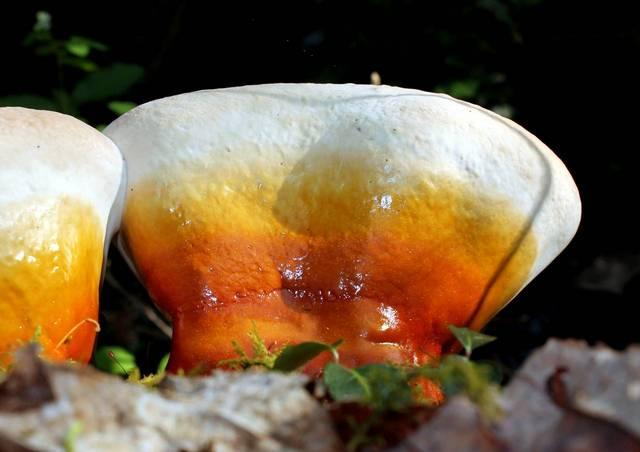poisonous_mushroom: (99, 78, 583, 394), (0, 103, 126, 375)
